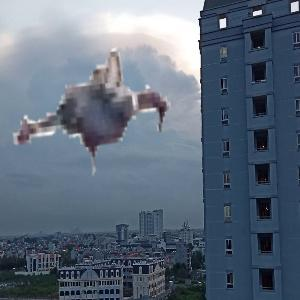drone: (3, 19, 202, 218)
